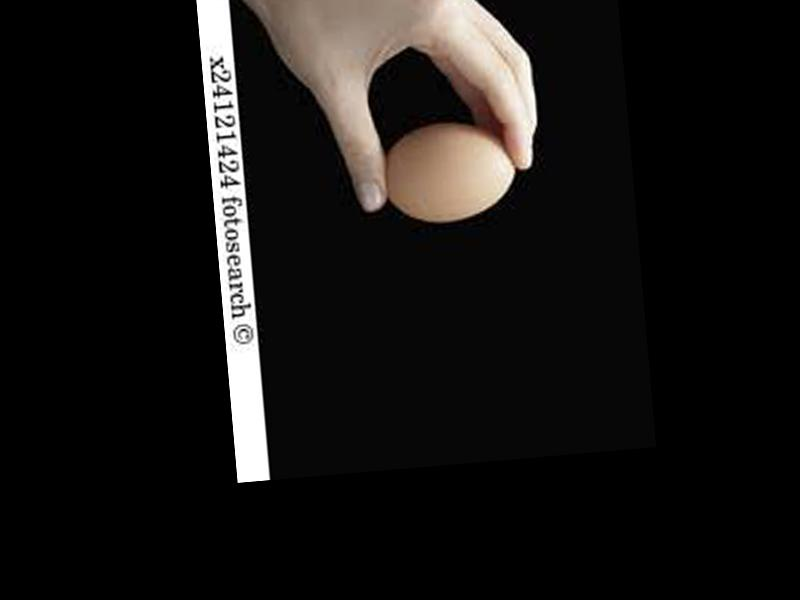Eggs: (380, 117, 522, 225)
